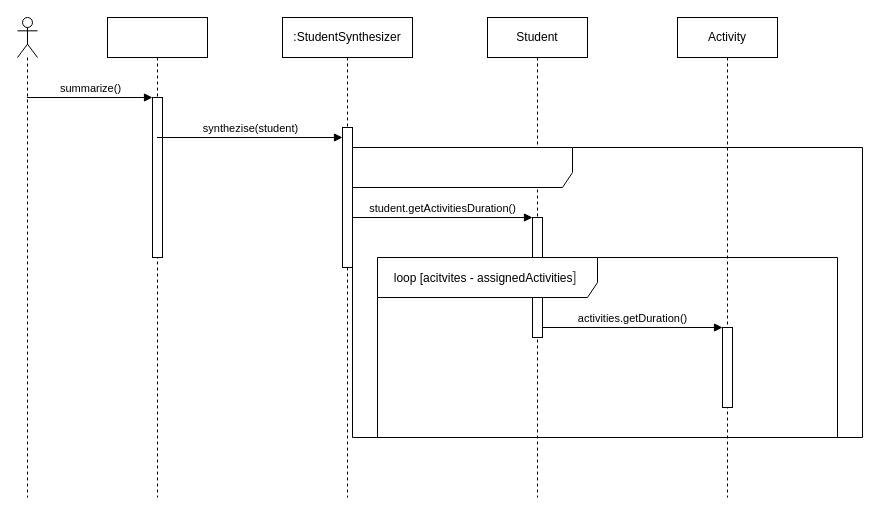
Some shapes in this 880 by 515 pixel diagram are drawn without their labels. Each missing label, with the box of its shape:
loop [Student ]: (352, 146, 862, 438)
Project: (106, 16, 208, 498)
